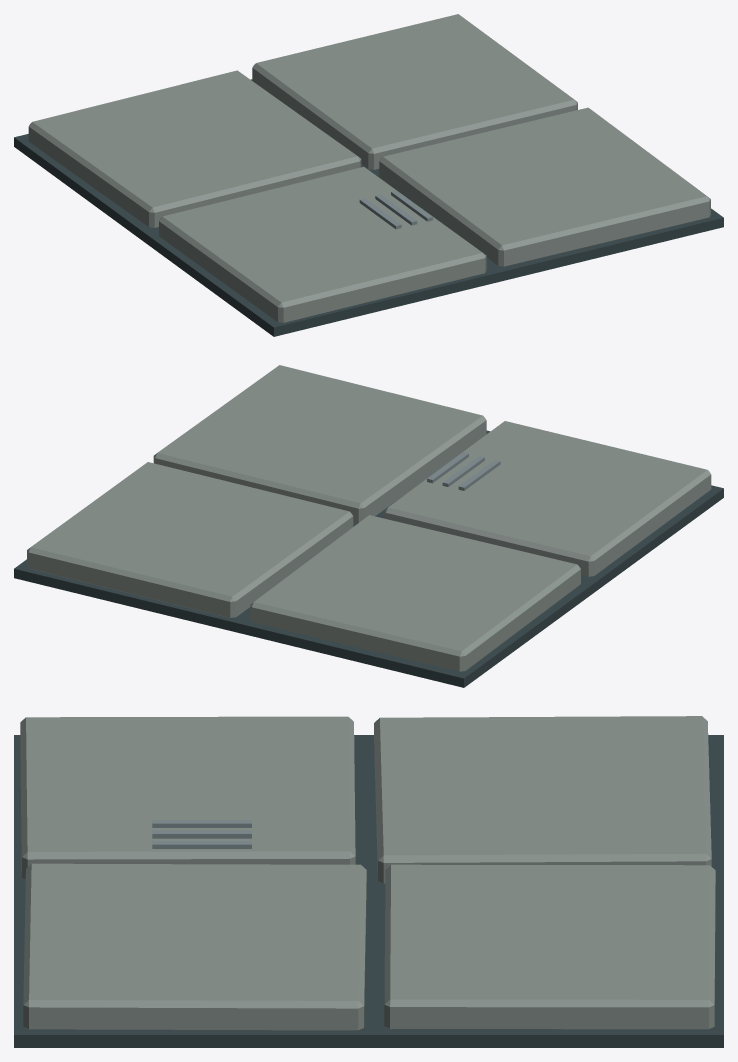
Rendered from paving_tiles.glb.
3 views of the same model, one above another, from view 1: azimuth 30°, elevation 25°; view 2: azimuth 150°, elevation 25°; view 3: azimuth 270°, elevation 25° (orthographic). The views are drawn at different scales.
Parts seen in each view (by area): view 1: paving_tiles_Surface; view 2: paving_tiles_Surface; view 3: paving_tiles_Surface.
Part boxes in pixels (x1,y1,x2,y2): paving_tiles_Surface: [14, 14, 723, 336]; paving_tiles_Surface: [14, 365, 723, 687]; paving_tiles_Surface: [14, 716, 723, 1047].
Size of the model in its own units: 2 by 0.134 by 2.
Materials: 1 (1 with a texture image).
